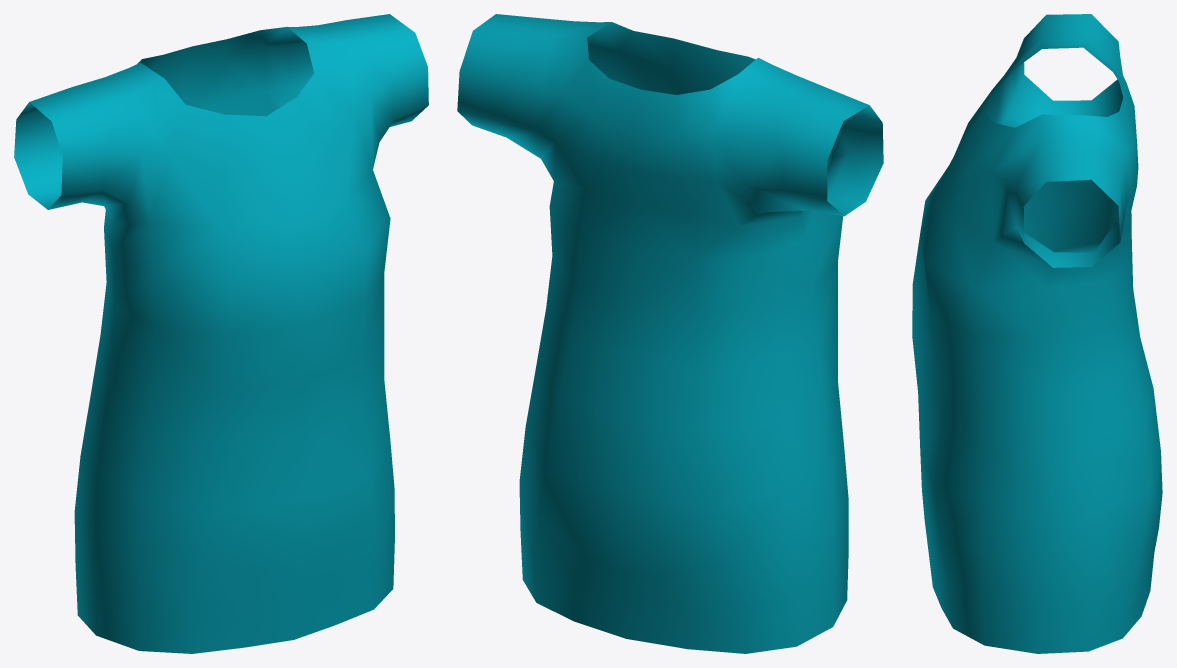
The model's file is Outerwear_Light_Blue_014.glb.
The picture shows the model from 3 angles, left to right: view 1: azimuth 30°, elevation 25°; view 2: azimuth 150°, elevation 25°; view 3: azimuth 270°, elevation 25°; orthographic projection. The views are drawn at different scales.
Visible parts, largest first — view 1: Outerwear_Light_Blue_014; view 2: Outerwear_Light_Blue_014; view 3: Outerwear_Light_Blue_014.
Boxes of the visible parts, x1,y1,x2,y2 form: Outerwear_Light_Blue_014: (14,14,428,653); Outerwear_Light_Blue_014: (457,14,883,653); Outerwear_Light_Blue_014: (912,14,1162,653).
Size of the model in its own units: 0.6011 by 0.8466 by 0.3763.
Materials: 1 (1 with a texture image).
